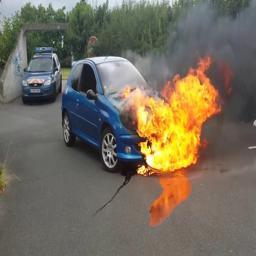fire: (120, 54, 224, 176)
